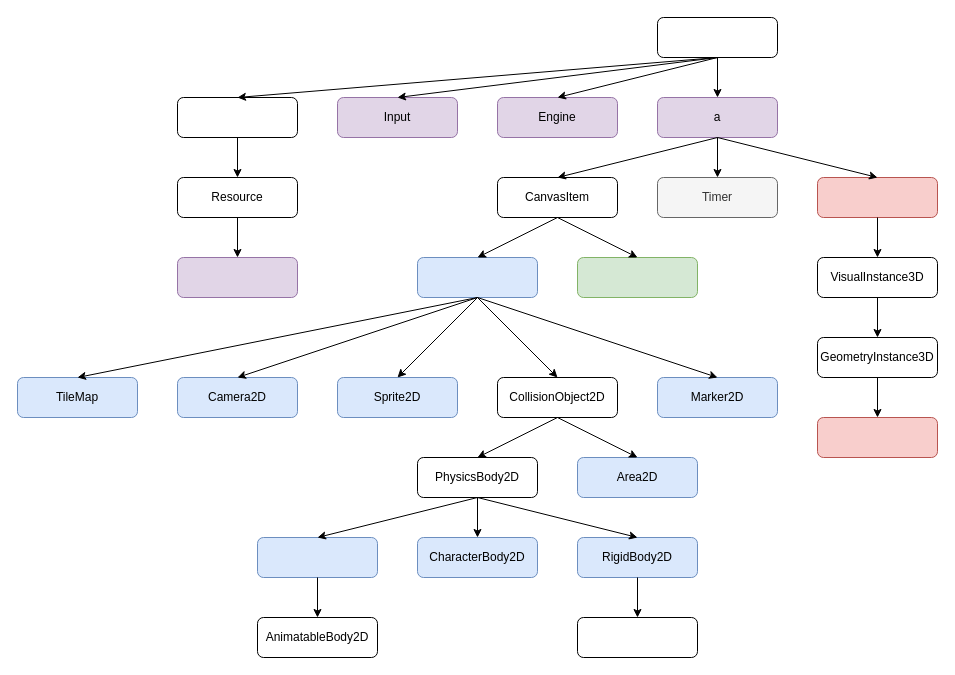
This 955x675 diagram has some shape labels left out. The centre of each missing label's shape, as x and y in pixels:
"Control" goes at (637,277).
"InputEvent" goes at (237,277).
"Node2D" goes at (477,277).
"Node3D" goes at (877,197).
"Object" goes at (717,37).
"PhysicalBone2D" goes at (637,637).
"RefCounter" goes at (237,117).
"Sprite3D" goes at (877,437).
"StaticBody2D" goes at (317,557).
